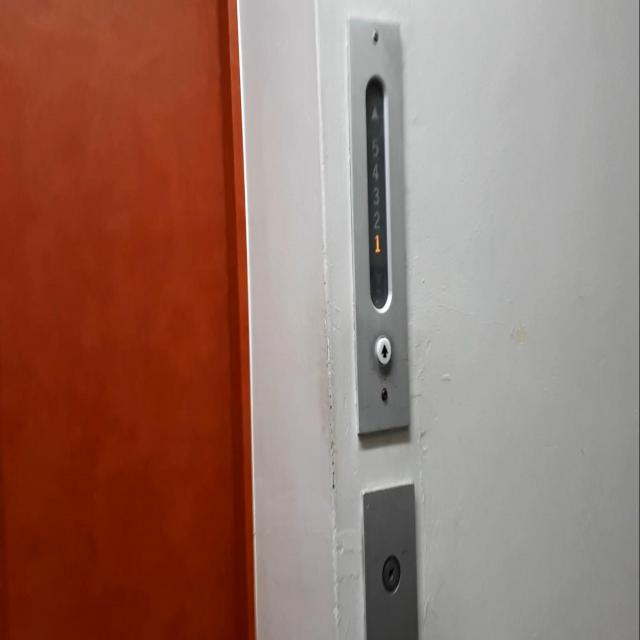keyhole: (382, 552, 400, 596)
led: (364, 70, 391, 312)
up: (376, 335, 391, 367)
